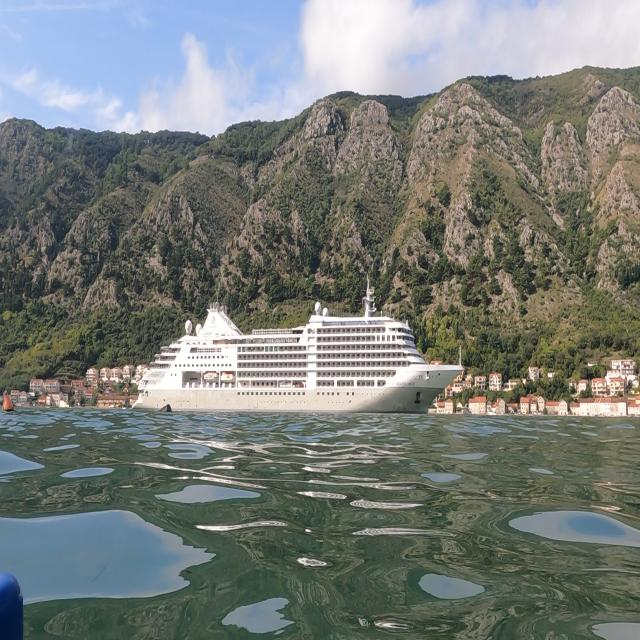boat: (130, 271, 465, 416)
buoy: (0, 386, 19, 416)
